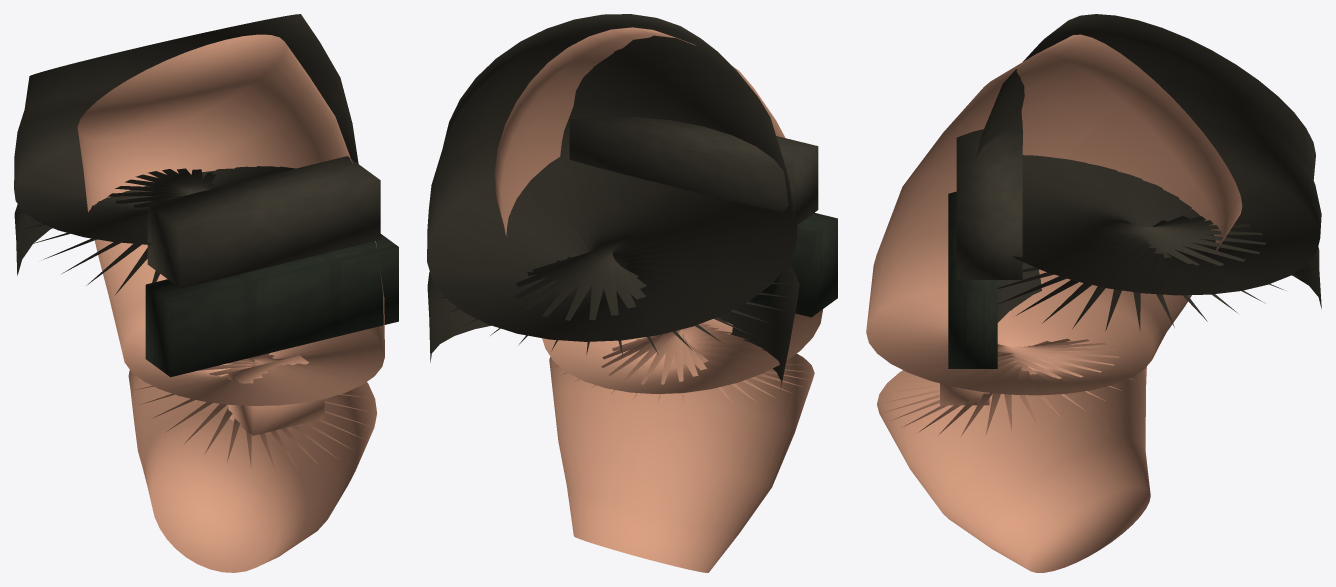
The model's file is head.glb.
3 views of the same model, side by side, from view 1: azimuth 30°, elevation 25°; view 2: azimuth 150°, elevation 25°; view 3: azimuth 270°, elevation 25° (orthographic). The views are drawn at different scales.
Visible parts, largest first — view 1: head; view 2: head; view 3: head.
Boxes of the visible parts, <box> form: head: <box>14,14,398,572</box>; head: <box>427,14,837,572</box>; head: <box>866,14,1321,572</box>.
Bounding box in the file's own units: 0.2098 × 0.3518 × 0.2765.
1 material, 1 textured.
